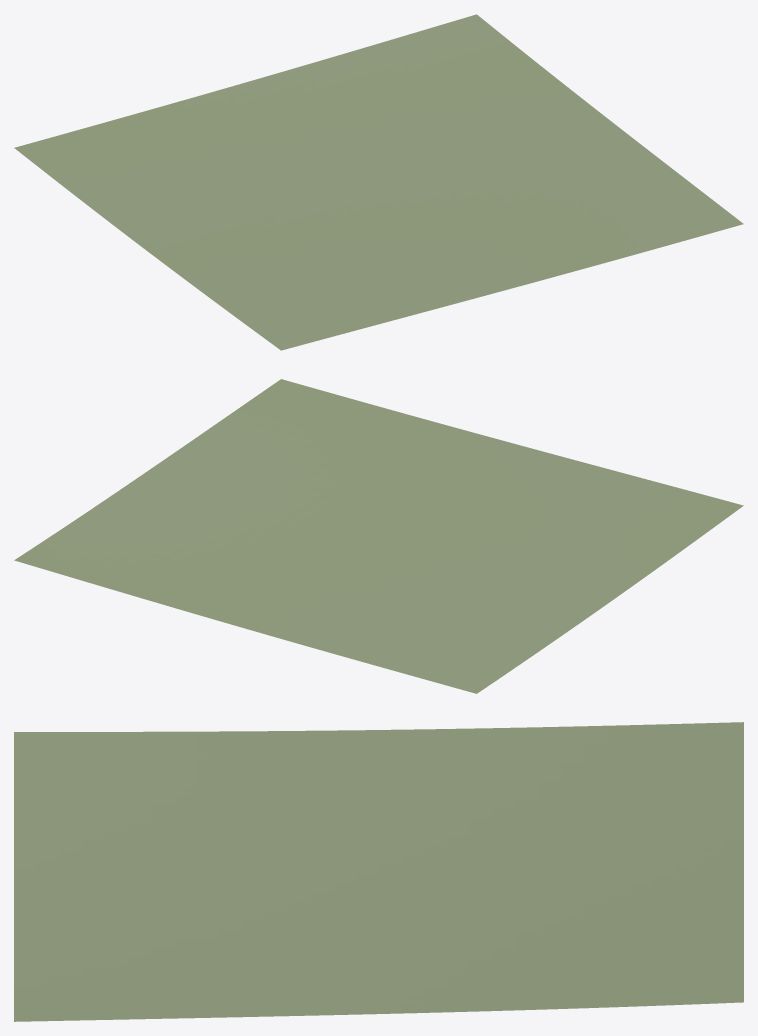
File: expanse-12-10.glb
3 views of the same model, one above another, from view 1: azimuth 30°, elevation 25°; view 2: azimuth 150°, elevation 25°; view 3: azimuth 270°, elevation 25° (orthographic). The views are drawn at different scales.
Visible parts, largest first — view 1: expanse-12-10; view 2: expanse-12-10; view 3: expanse-12-10.
Part boxes in pixels (x1,y1,x2,y2): expanse-12-10: (14, 14, 743, 350); expanse-12-10: (14, 379, 743, 693); expanse-12-10: (14, 722, 743, 1021).
Size of the model in its own units: 256 by 14.73 by 256.
